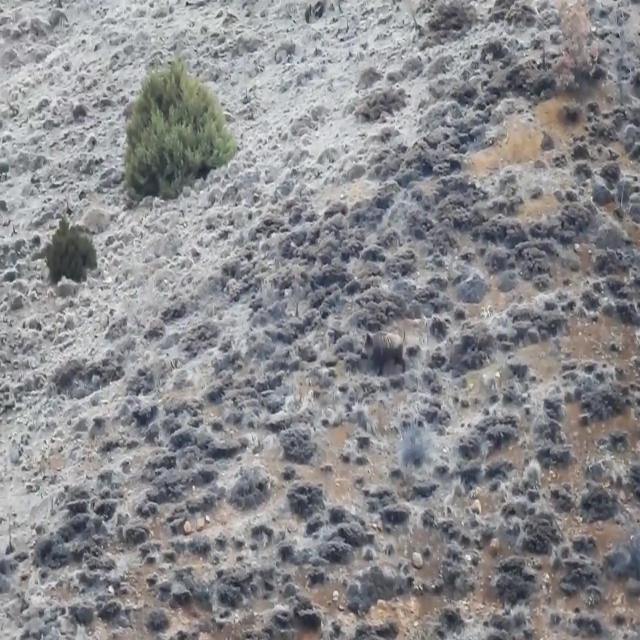pig: (358, 325, 402, 382)
